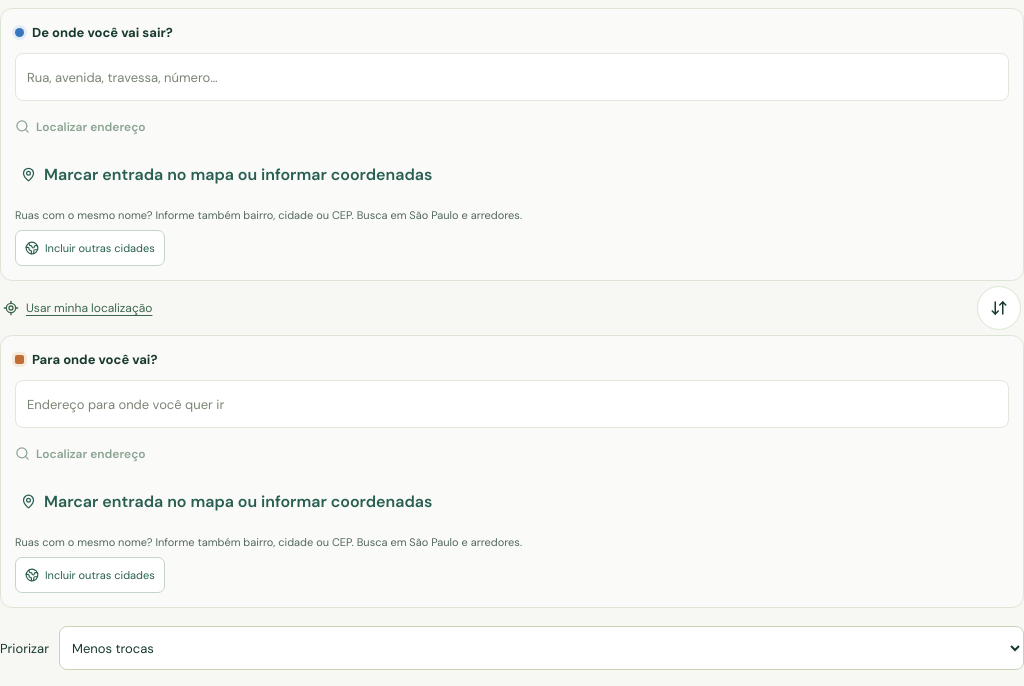
Scenario: não aplica carro atrasado ao escolher transporte
Type "Rua Origem, 1000" into the dropdown labelled "De onde você vai sair?". click: (512, 77)
box: 16,54 -> 1008,100
Click the button with aria-label "Localizar origem". click: (80, 123)
box: 15,101 -> 146,145
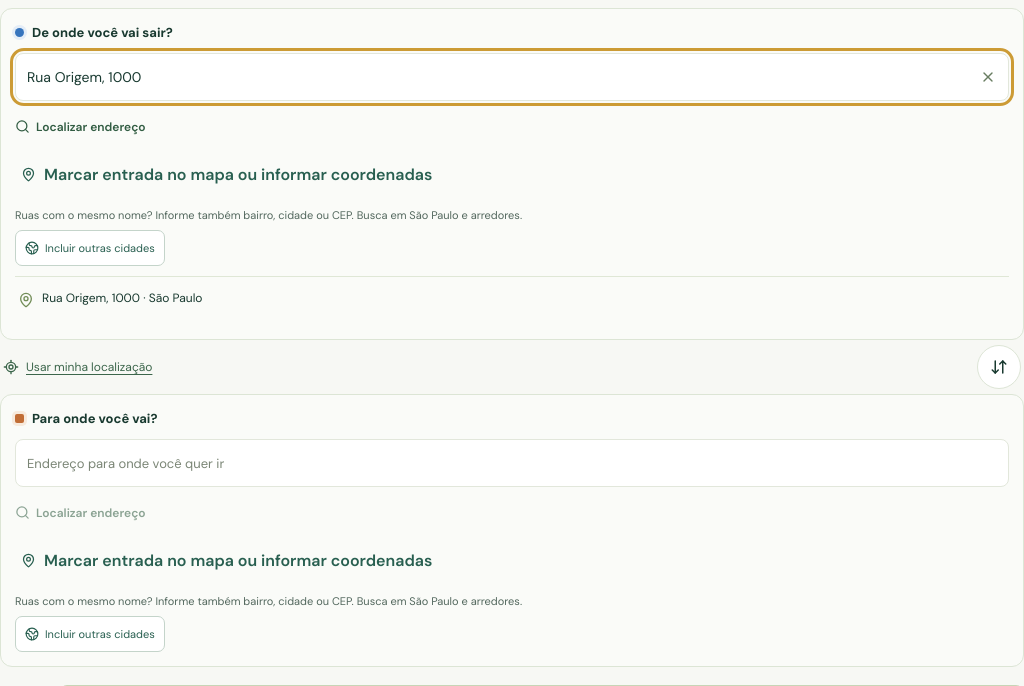
Click the option "Rua Origem, 1000 · São Paulo". click: (122, 298)
box: 15,277 -> 1009,325
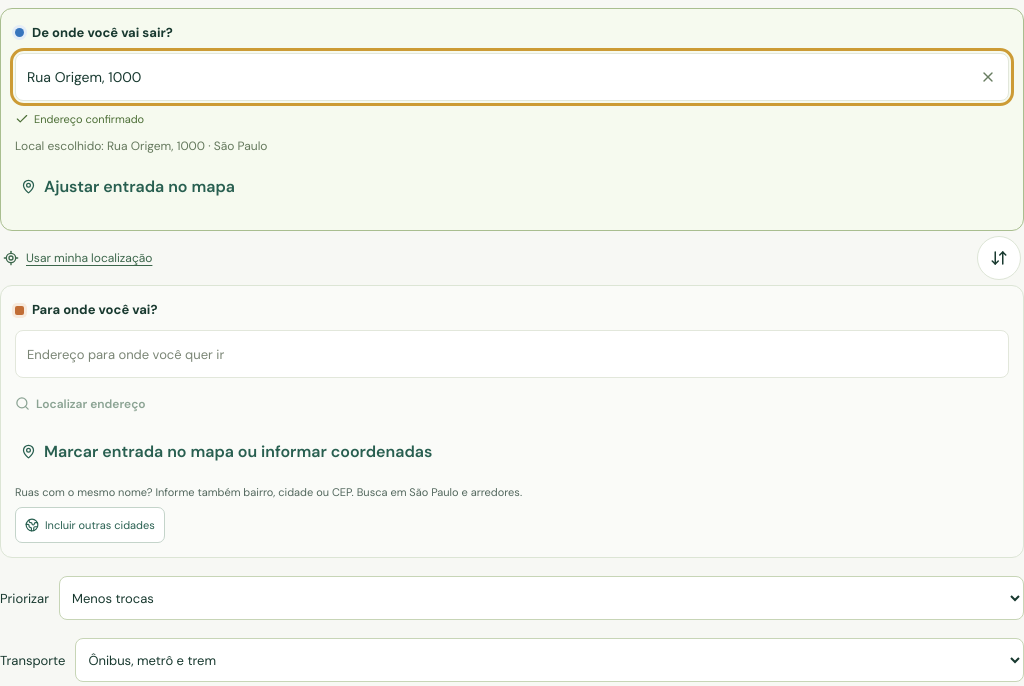
Type "Rua Destino, 1000" into the dropdown labelled "Para onde você vai?". click: (512, 354)
box: 16,331 -> 1008,377
Click the button with aria-label "Localizar destino". click: (80, 400)
box: 15,378 -> 146,422
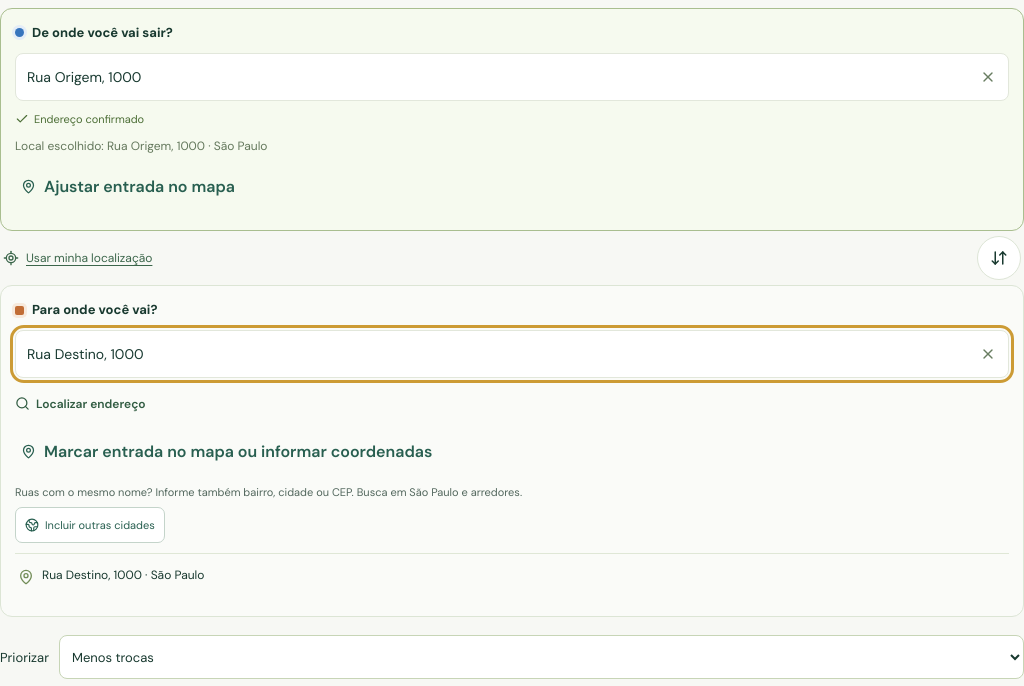
Click the option "Rua Destino, 1000 · São Paulo". click: (123, 575)
box: 15,554 -> 1009,602
(page scrolled)
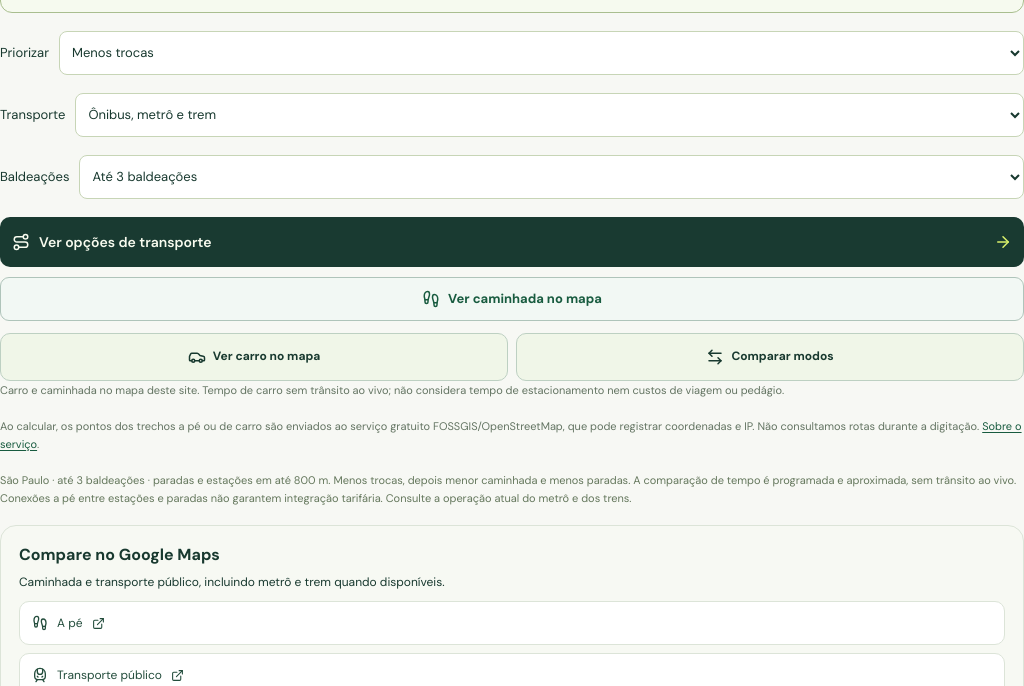
Click the button "Ver carro no mapa". click: (254, 356)
box: 0,332 -> 508,380
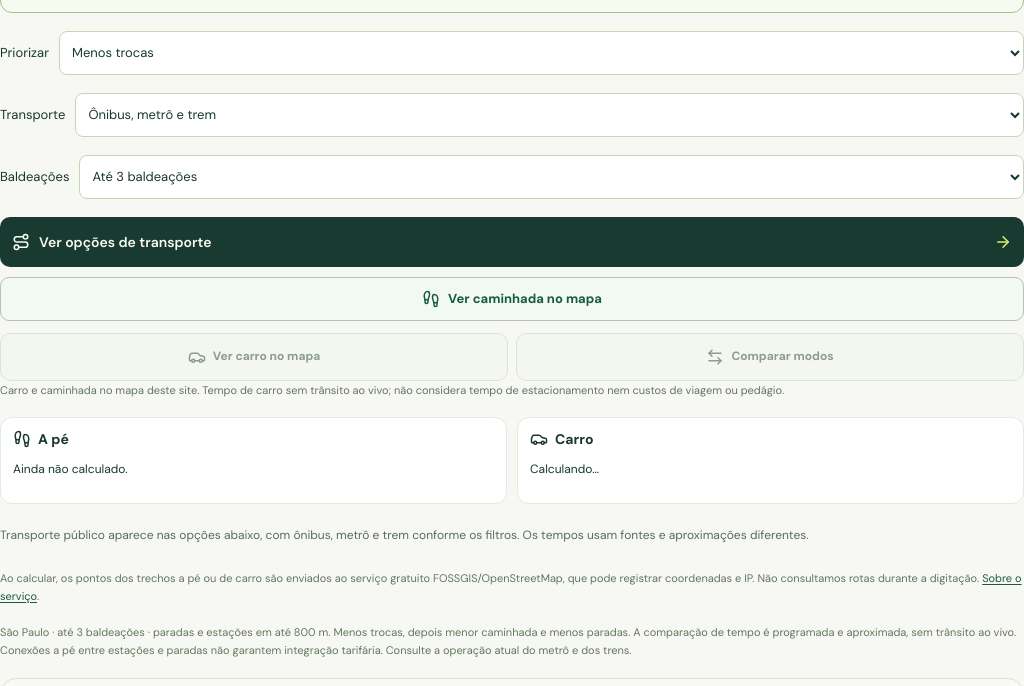
Click the button "Ver opções de transporte". click: (125, 242)
box: 0,216 -> 1023,266
(page scrolled)
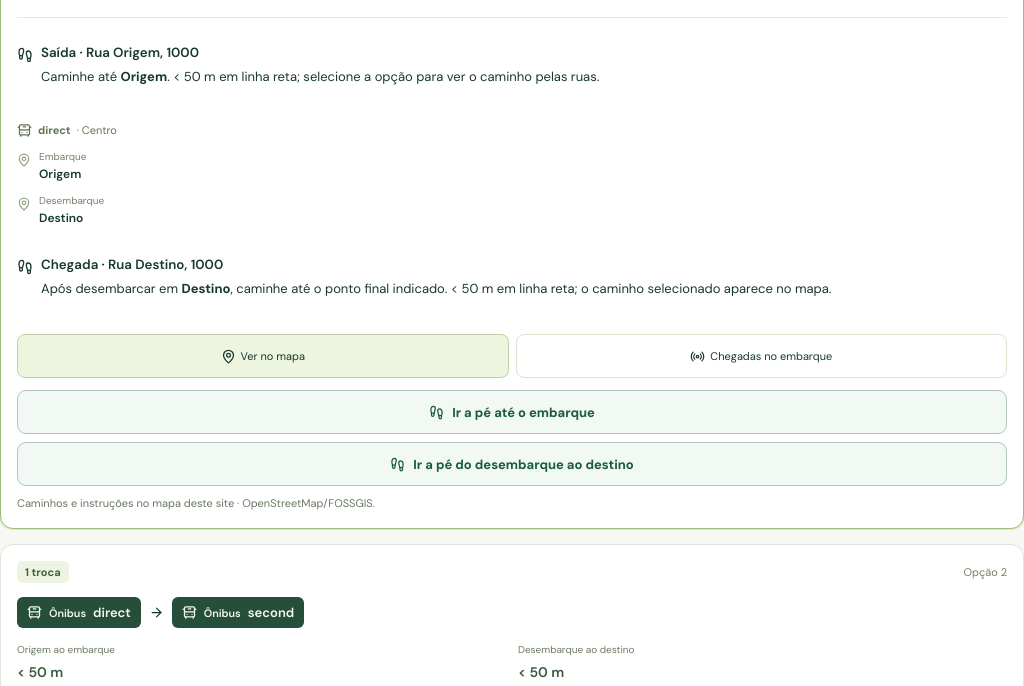
Check: the button with aria-label "Ver opção 1 no mapa" is shown, box 17,334 -> 508,378
